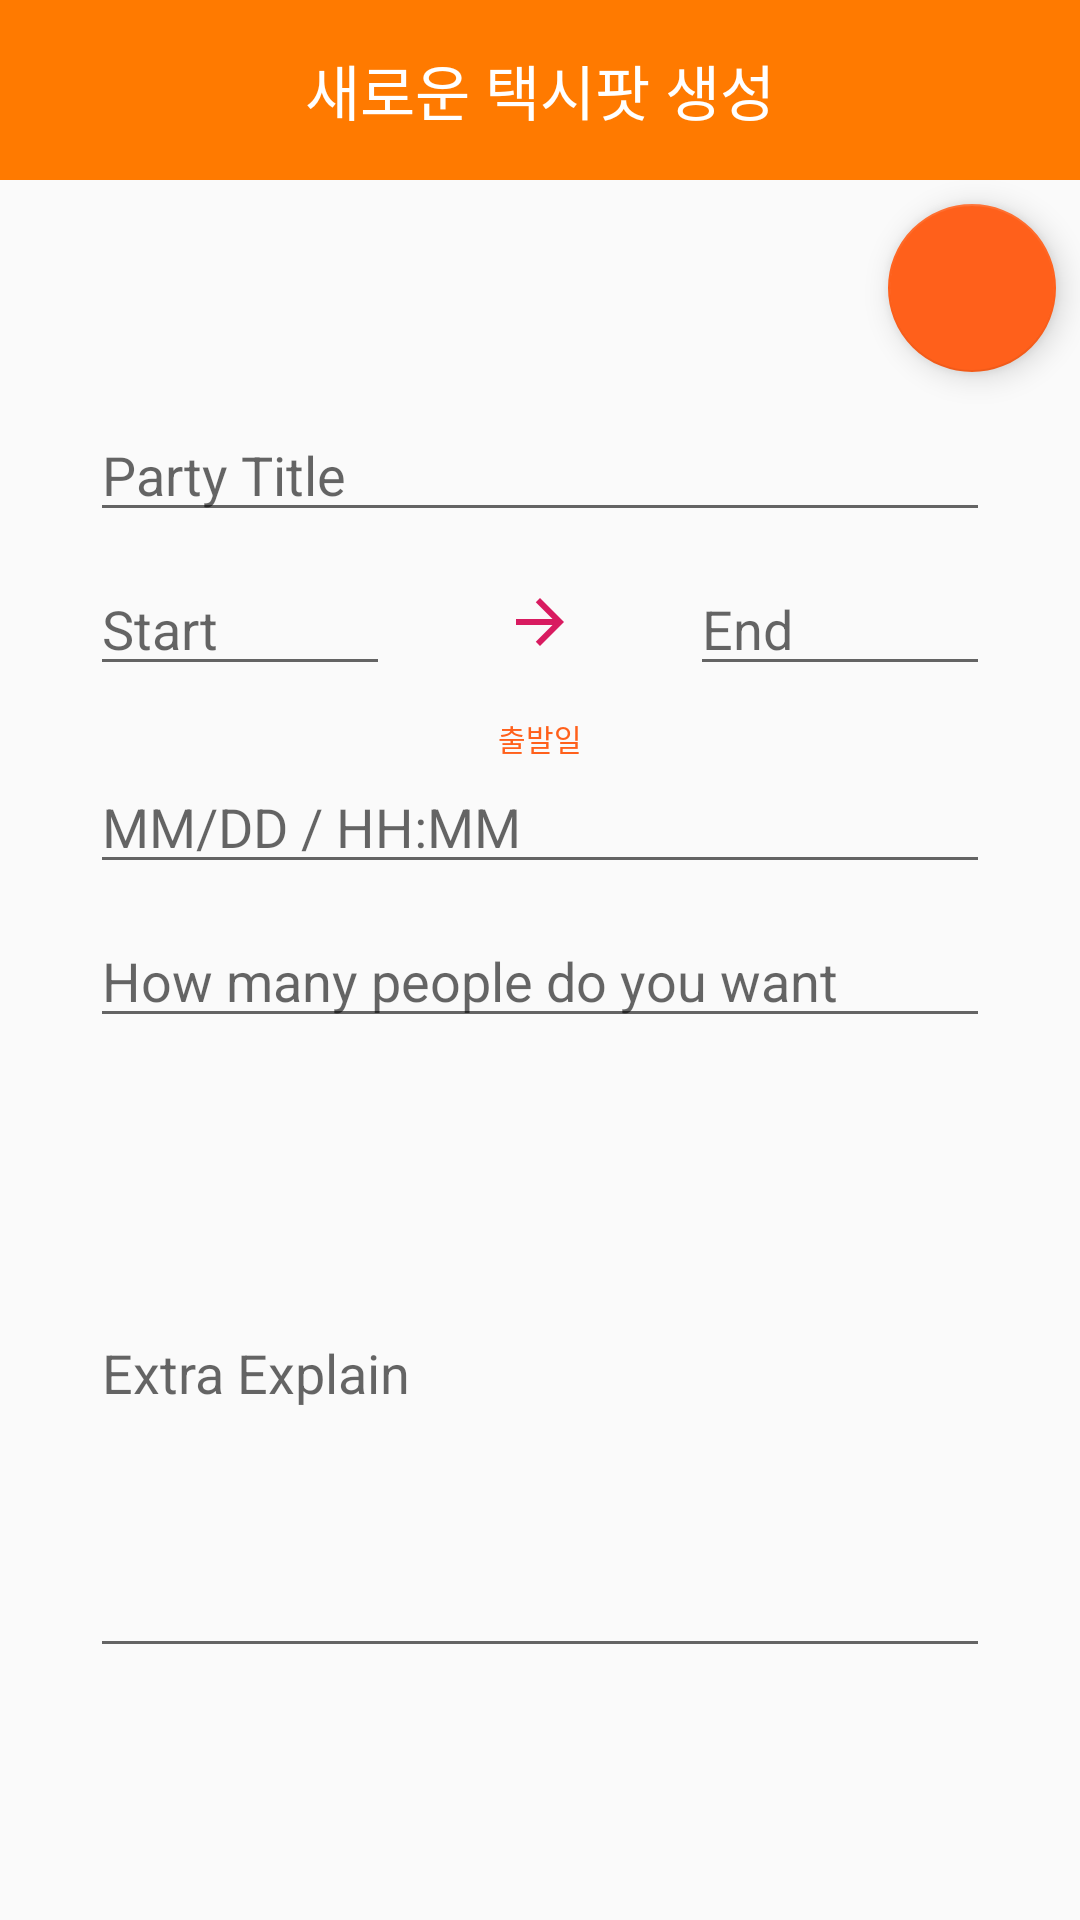

Named icons in this screenshot (1080×1920) and their centers, [x,y]:
arrow forward: [540,622]
